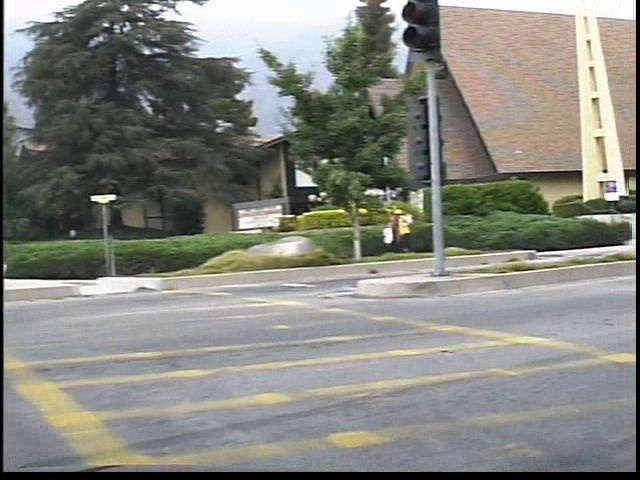person: (402, 202, 428, 257)
